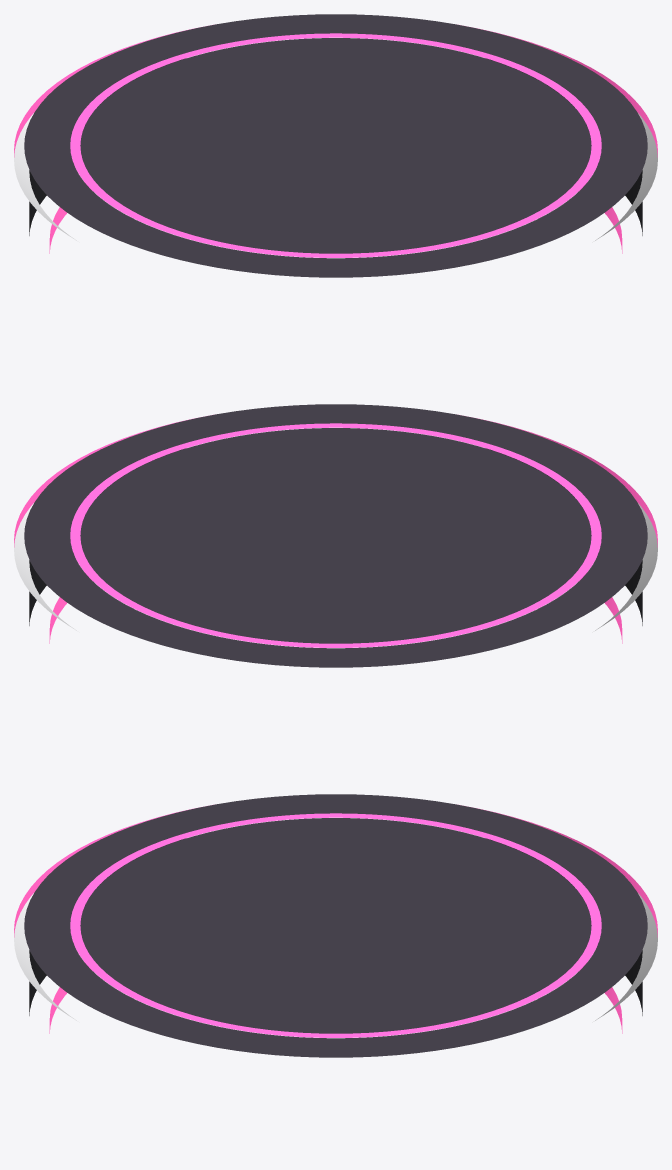
The model's file is podium_ruby.glb.
3 views of the same model, one above another, from view 1: azimuth 30°, elevation 25°; view 2: azimuth 150°, elevation 25°; view 3: azimuth 270°, elevation 25° (orthographic).
Parts seen in each view (by area): view 1: p8, p6, p7, p3, p4, p2; view 2: p8, p6, p7, p3, p4, p2; view 3: p8, p6, p7, p3, p4, p2.
Boxes of the visible parts, box(x1,y1,x2,y2) form: p8: box(80, 38, 591, 253); p6: box(24, 14, 647, 277); p7: box(70, 33, 601, 257); p3: box(14, 37, 657, 240); p4: box(14, 24, 657, 157); p2: box(29, 58, 642, 235); p8: box(80, 428, 591, 643); p6: box(24, 404, 647, 667); p7: box(70, 423, 601, 647); p3: box(14, 427, 657, 630); p4: box(14, 414, 657, 547); p2: box(29, 448, 642, 625); p8: box(80, 818, 591, 1033); p6: box(24, 794, 647, 1057); p7: box(70, 813, 601, 1037); p3: box(14, 817, 657, 1020); p4: box(14, 804, 657, 937); p2: box(29, 838, 642, 1015).
Bounding box in the file's own units: 2.52 × 0.471 × 2.52.
